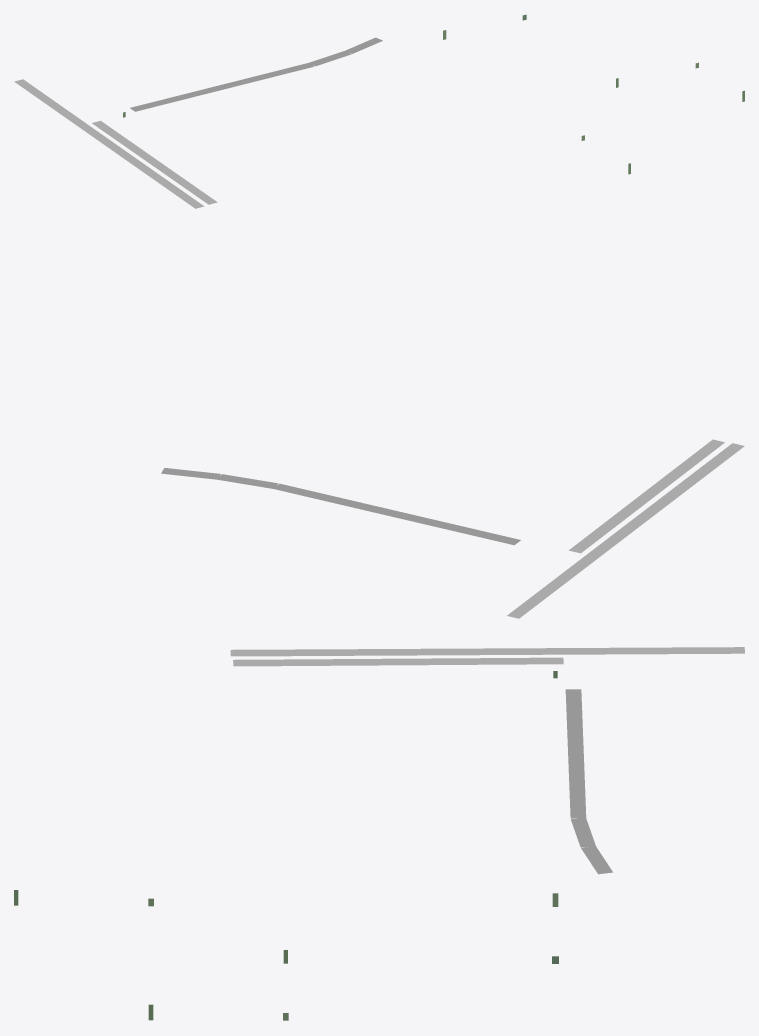
The picture shows the model from 3 angles, top to bottom: view 1: azimuth 30°, elevation 25°; view 2: azimuth 150°, elevation 25°; view 3: azimuth 270°, elevation 25°; orthographic projection. The views are drawn at different scales.
Size of the model in its own units: 395 by 8.55 by 325.
